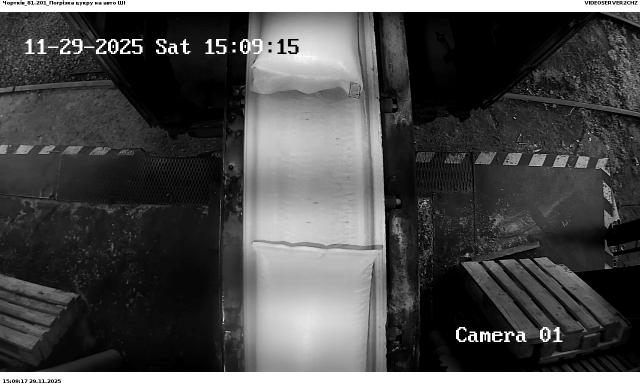bag: (252, 242, 383, 372), (253, 12, 363, 94)
